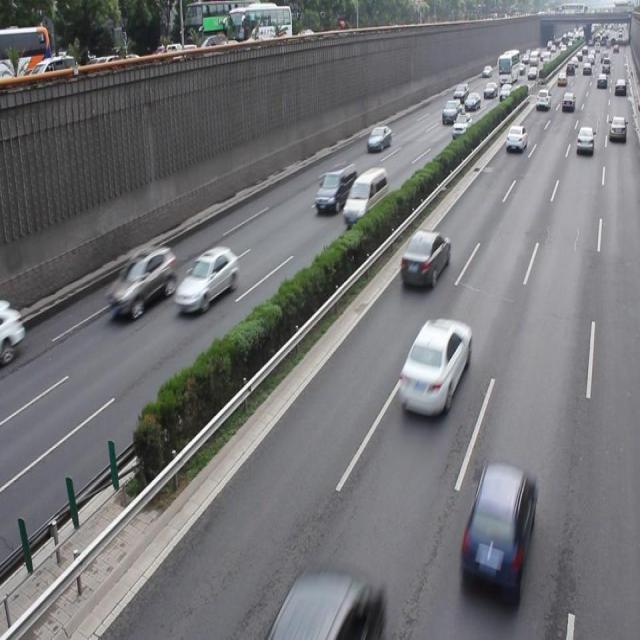car: (459, 458, 537, 599), (397, 316, 471, 414), (108, 241, 177, 317), (171, 244, 239, 314), (400, 227, 450, 284), (1, 296, 25, 363)
truck: (262, 558, 382, 640), (343, 165, 386, 222), (314, 161, 356, 215)
